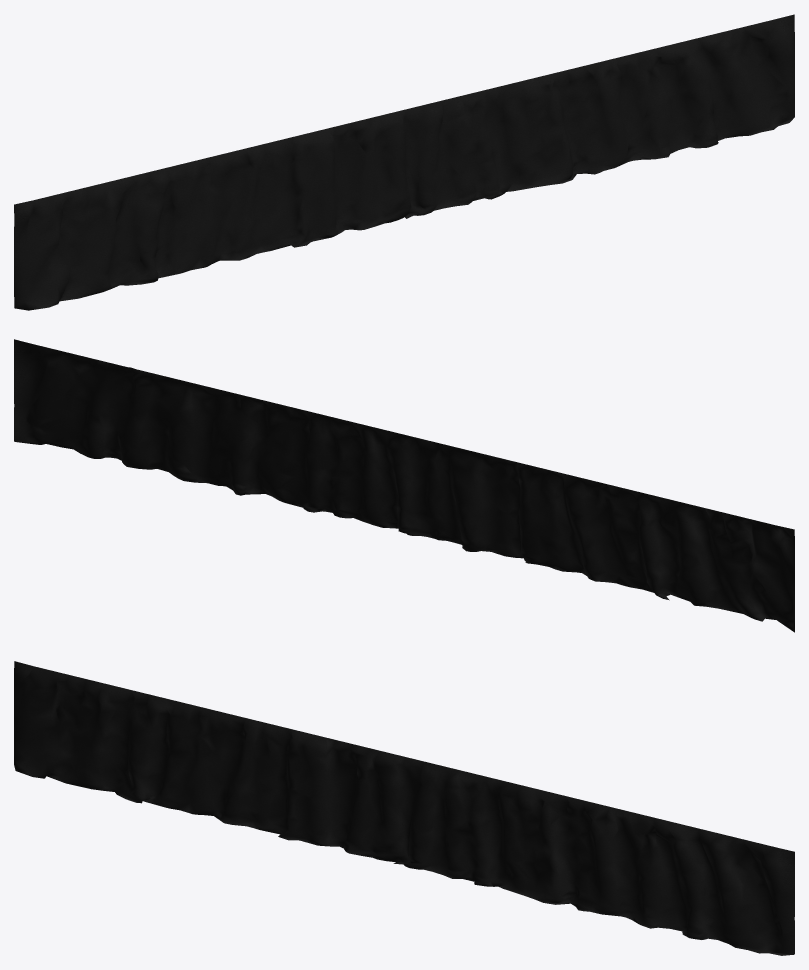
Rendered from StageCurtain01_2.FBX.
3 views of the same model, one above another, from view 1: azimuth 30°, elevation 25°; view 2: azimuth 150°, elevation 25°; view 3: azimuth 330°, elevation 25° (orthographic).
Parts seen in each view (by area): view 1: StageCurtain01_2; view 2: StageCurtain01_2; view 3: StageCurtain01_2.
Part boxes in pixels (x1,y1,x2,y2): StageCurtain01_2: (14, 14, 794, 310); StageCurtain01_2: (14, 339, 794, 632); StageCurtain01_2: (14, 661, 794, 955).
Size of the model in its own units: 849 by 108 by 19.49.
